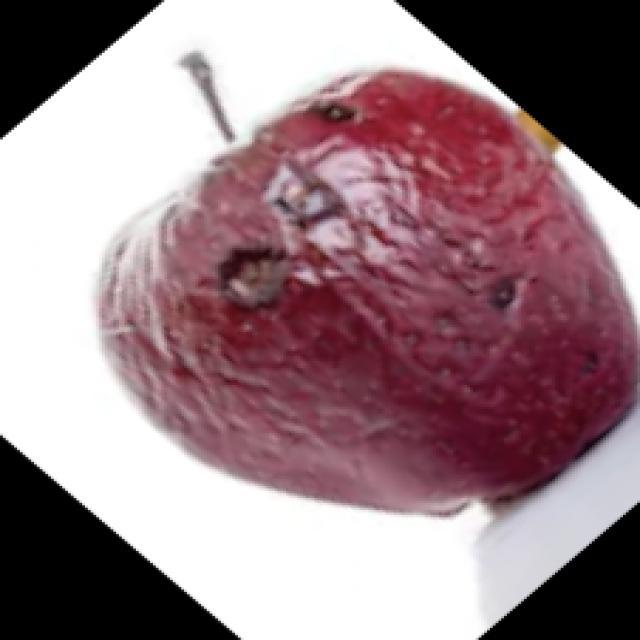Rotten: (115, 65, 640, 582)
